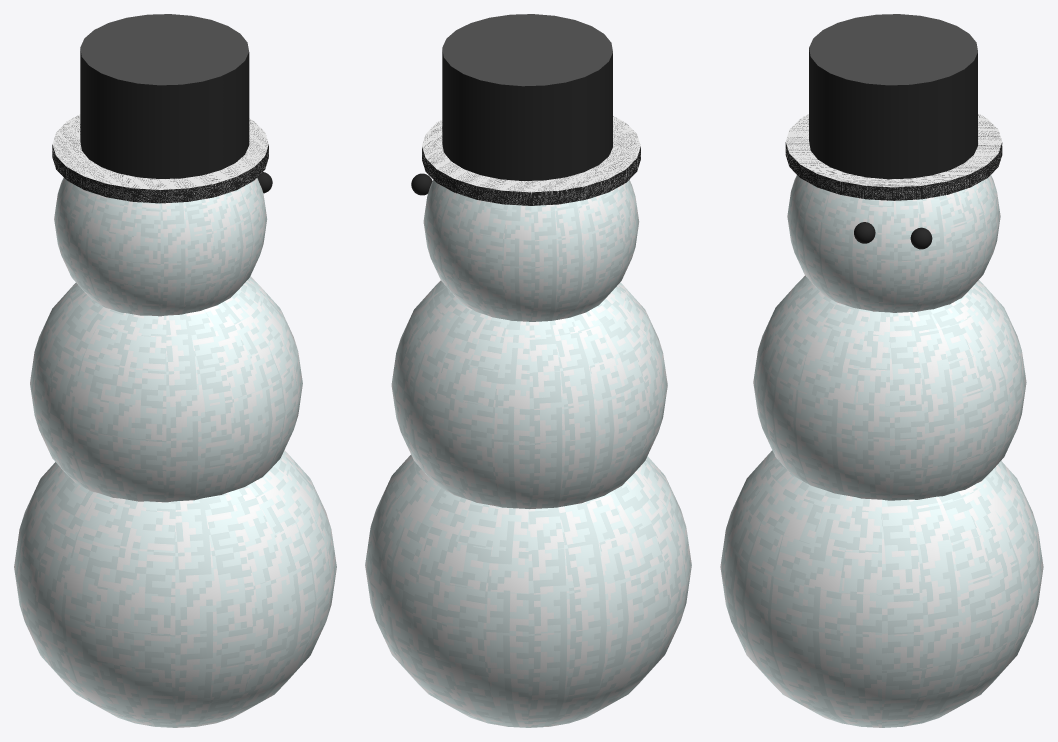
File: snowman_minion.fbx
3 views of the same model, side by side, from view 1: azimuth 30°, elevation 25°; view 2: azimuth 150°, elevation 25°; view 3: azimuth 270°, elevation 25° (orthographic).
Parts seen in each view (by area): view 1: Ball (×3), SketchUp, ID66, ID36, ID46; view 2: Ball (×3), SketchUp, ID66, ID36, ID46; view 3: Ball (×3), SketchUp, ID66, ID36, ID46.
Part boxes in pixels (bbox=[...]): Ball (×3): bbox=[14, 177, 336, 727]; SketchUp: bbox=[80, 49, 249, 178]; ID66: bbox=[80, 14, 248, 85]; ID36: bbox=[52, 114, 268, 189]; ID46: bbox=[52, 144, 268, 203]; Ball (×3): bbox=[365, 180, 691, 727]; SketchUp: bbox=[442, 50, 612, 180]; ID66: bbox=[442, 14, 612, 86]; ID36: bbox=[422, 116, 640, 192]; ID46: bbox=[422, 146, 640, 205]; Ball (×3): bbox=[720, 175, 1043, 727]; SketchUp: bbox=[809, 48, 977, 179]; ID66: bbox=[809, 14, 977, 85]; ID36: bbox=[785, 113, 1002, 187]; ID46: bbox=[785, 142, 1002, 200].
Bounding box in the file's own units: 37.12 × 37.12 × 83.81.
5 materials, 1 textured.
